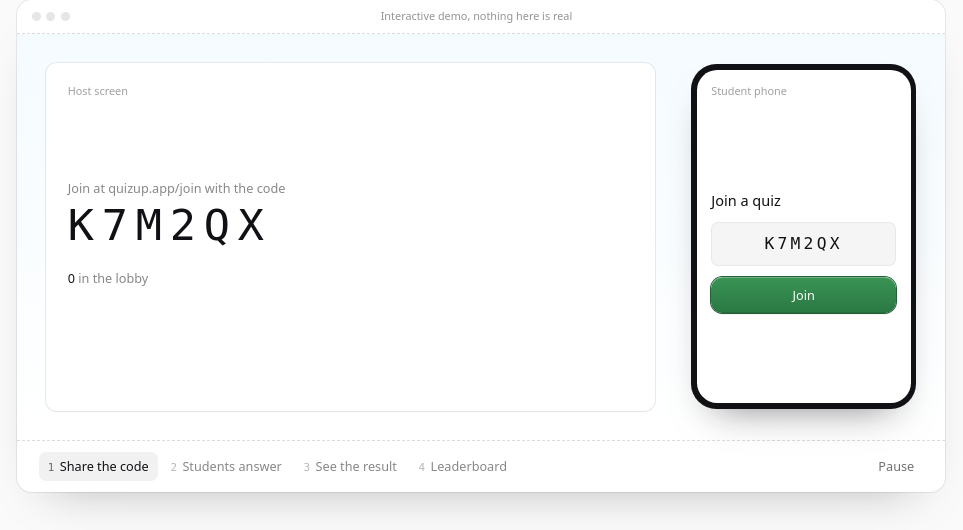
Test: HeroDemo › moves the host chart when an answer is tapped, then shows the result
Click the button "Join" at x=804, y=295, box top-left (711, 276), bottom-right (896, 313)
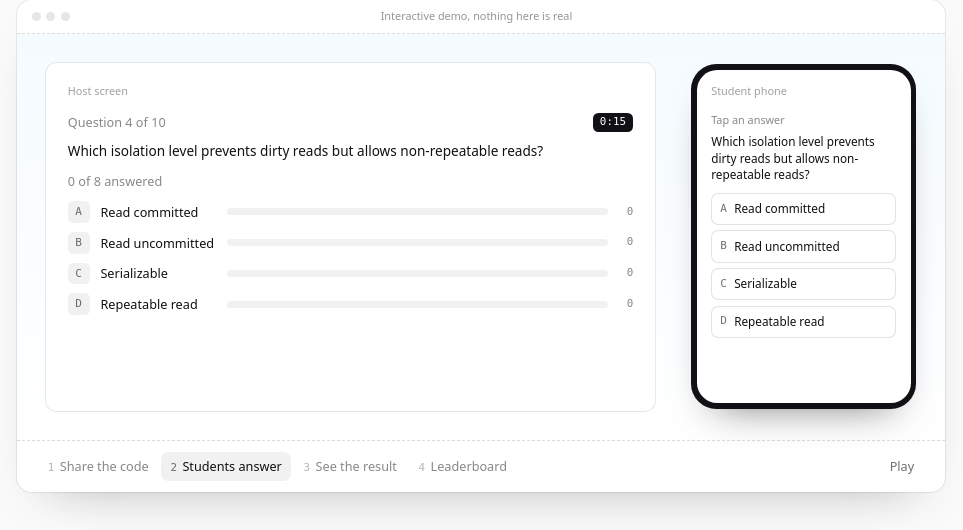
Expected: the text "0 of 8 answered" is shown, top-left (68, 172), bottom-right (162, 190)
Click the button "A Read committed" at x=804, y=209, box top-left (711, 193), bottom-right (896, 225)
Wait 1200 ms
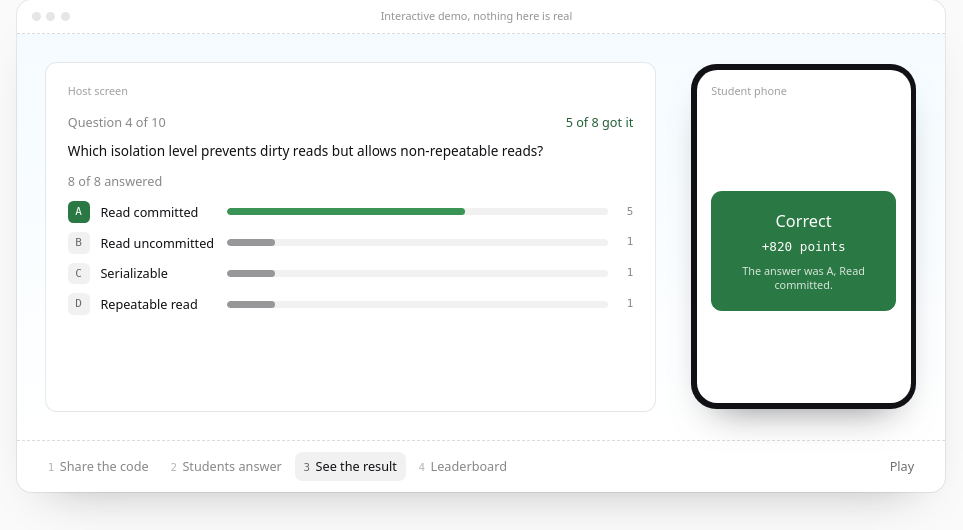
Expected: the text "1 of 8 answered" is shown, top-left (68, 172), bottom-right (162, 190)
Expected: the message shows "Correct", top-left (776, 210), bottom-right (832, 232)
